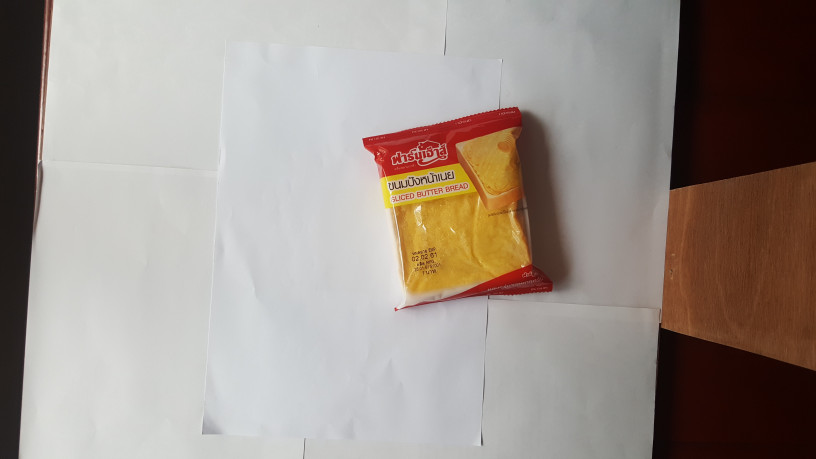farmhouse-bread-butter: (359, 106, 559, 317)
